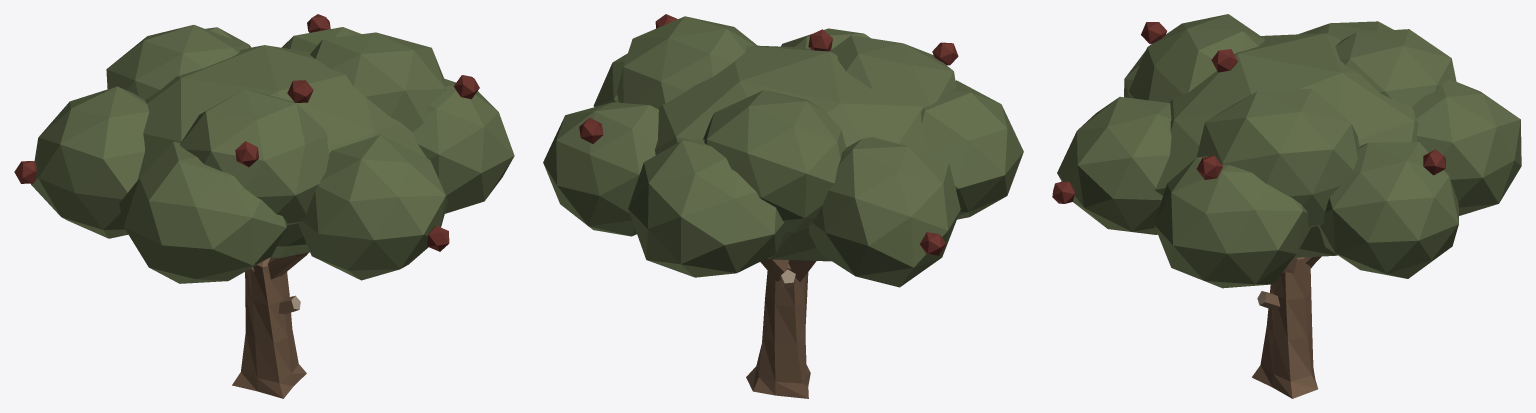
The model's file is orchard-apple-tree.glb.
3 renders of one model, left to right at view 1: azimuth 30°, elevation 25°; view 2: azimuth 150°, elevation 25°; view 3: azimuth 270°, elevation 25°, orthographic.
Parts seen in each view (by area): view 1: orchard-apple-tree-mesh, fruit-5, fruit-2, fruit-0, fruit-1; view 2: orchard-apple-tree-mesh, fruit-4, fruit-3, fruit-2, fruit-5; view 3: orchard-apple-tree-mesh, fruit-1, fruit-5, fruit-4, fruit-0, fruit-2.
Part boxes in pixels (box(x1,y1,x2,y2)): orchard-apple-tree-mesh: box(31, 25, 514, 398); fruit-5: box(287, 80, 313, 102); fruit-2: box(235, 141, 258, 167); fruit-0: box(427, 225, 449, 251); fruit-1: box(454, 75, 479, 99); orchard-apple-tree-mesh: box(543, 16, 1023, 398); fruit-4: box(579, 117, 603, 143); fruit-3: box(920, 232, 946, 255); fruit-2: box(932, 42, 958, 65); fruit-5: box(808, 29, 832, 51); orchard-apple-tree-mesh: box(1057, 14, 1521, 398); fruit-1: box(1196, 155, 1222, 179); fruit-5: box(1211, 49, 1237, 72); fruit-4: box(1423, 149, 1445, 175); fruit-0: box(1052, 181, 1074, 203); fruit-2: box(1141, 22, 1166, 43).
Size of the model in its own units: 4.76 by 3.64 by 4.71.
